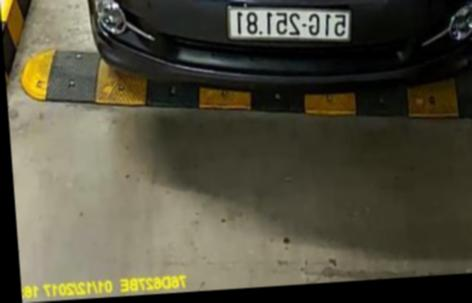License_Plate: (220, 0, 358, 50)
